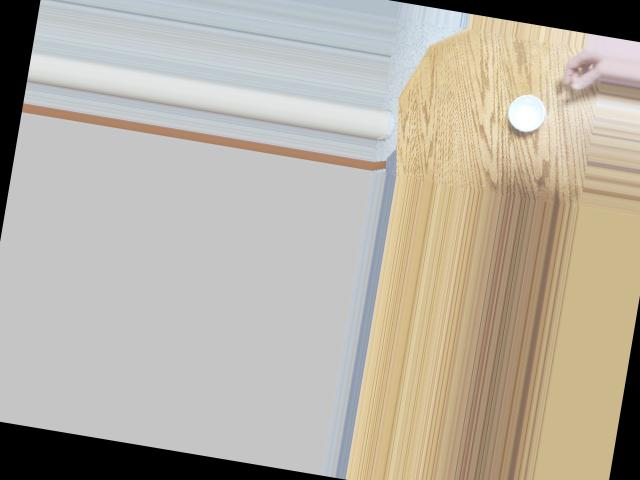cotage: (503, 86, 557, 134)
